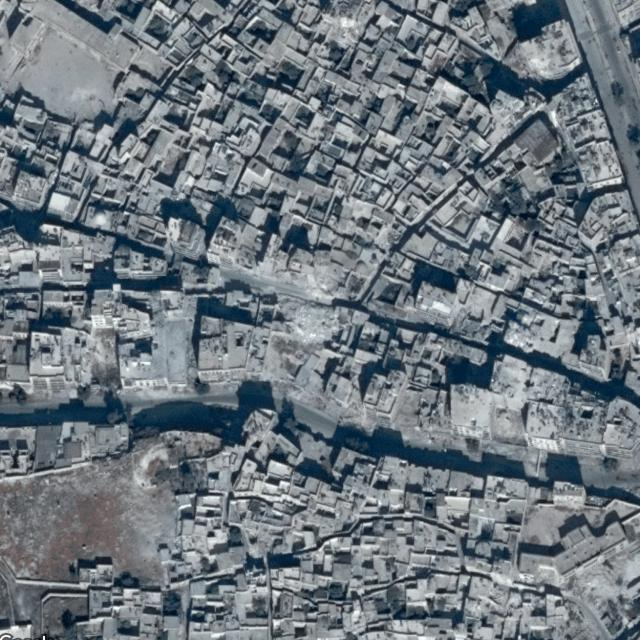damaged_building: (286, 295, 350, 350)
